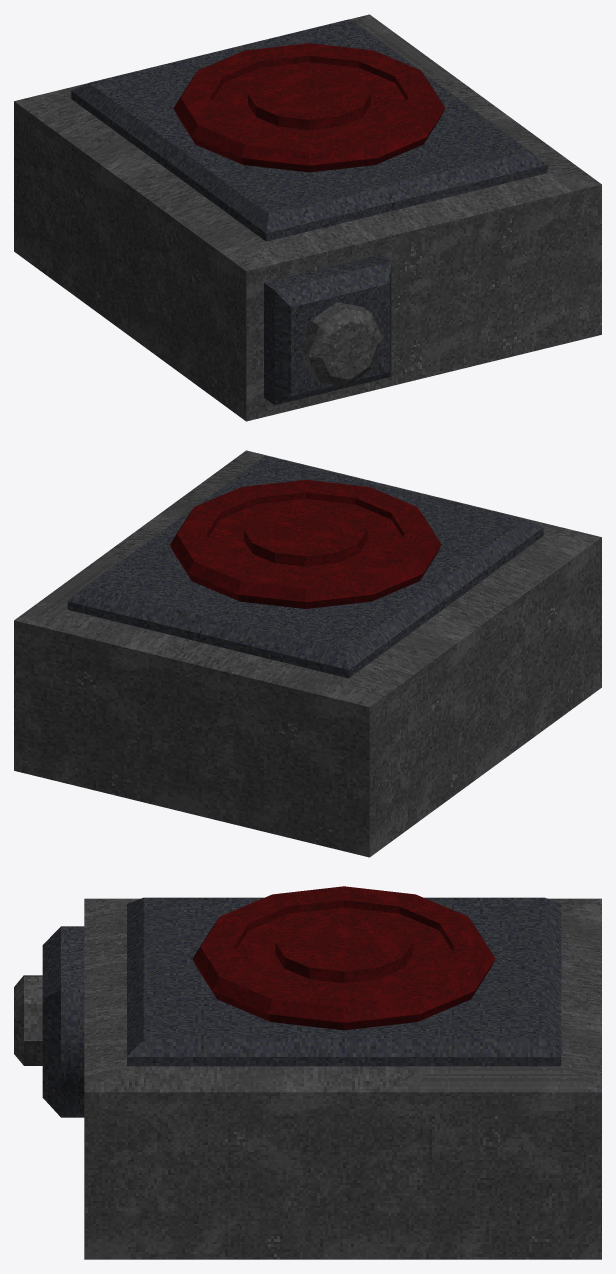
Rendered from fire_thing.gltf.
3 views of the same model, one above another, from view 1: azimuth 30°, elevation 25°; view 2: azimuth 150°, elevation 25°; view 3: azimuth 270°, elevation 25° (orthographic). The views are drawn at different scales.
Parts seen in each view (by area): view 1: Oven, Knob; view 2: Oven; view 3: Oven, Knob.
Boxes of the visible parts, <box> form: Oven: <box>14,14,601,421</box>; Knob: <box>299,302,382,386</box>; Oven: <box>14,450,601,857</box>; Oven: <box>42,886,601,1259</box>; Knob: <box>14,975,42,1065</box>.
Bounding box in the file's own units: 0.4074 × 0.2175 × 0.5234.
1 material, 1 textured.
